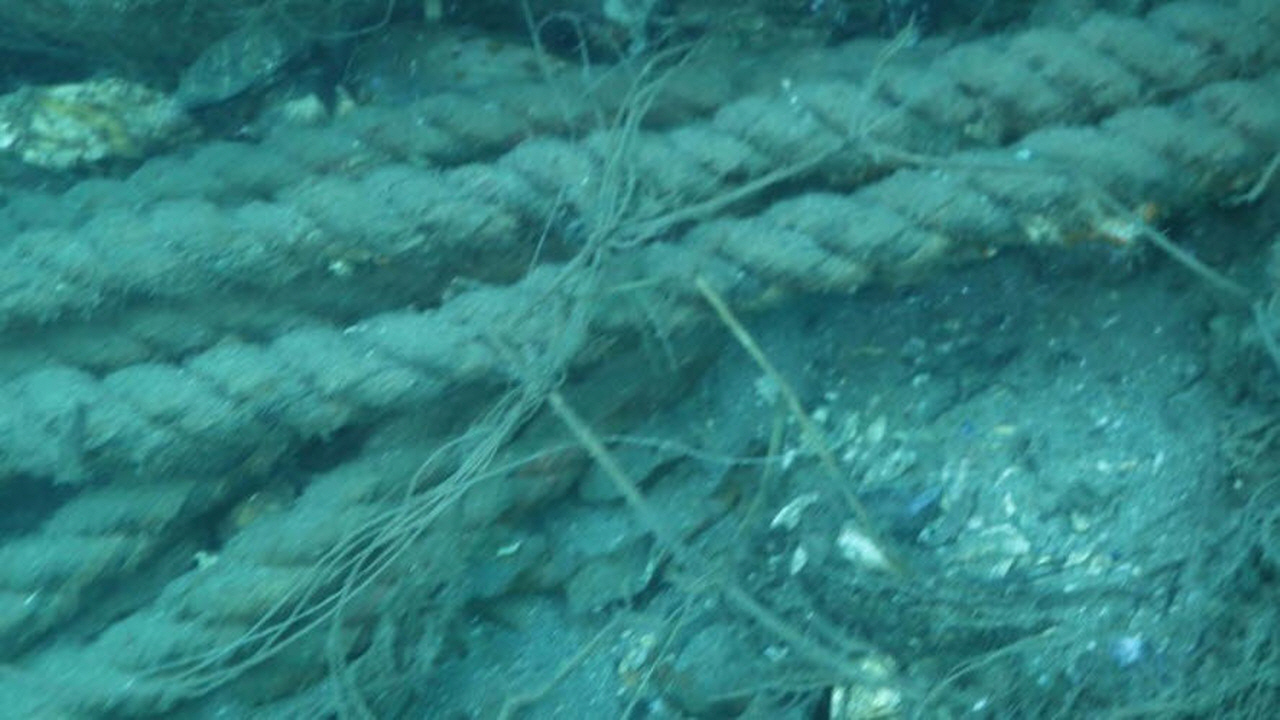bundle of ropes: (0, 0, 1276, 720)
